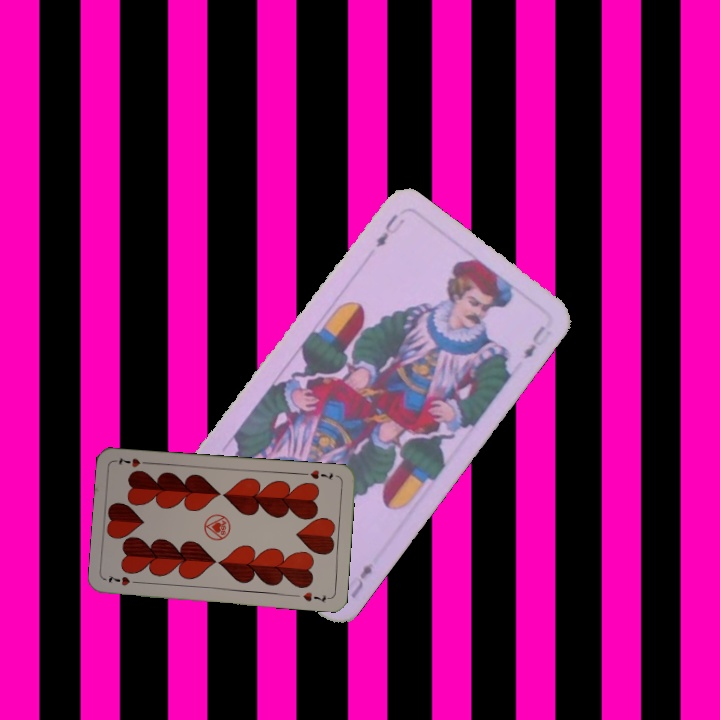EU: (341, 559, 377, 601), (371, 210, 408, 250)
H7: (104, 572, 143, 589), (306, 466, 335, 482)
